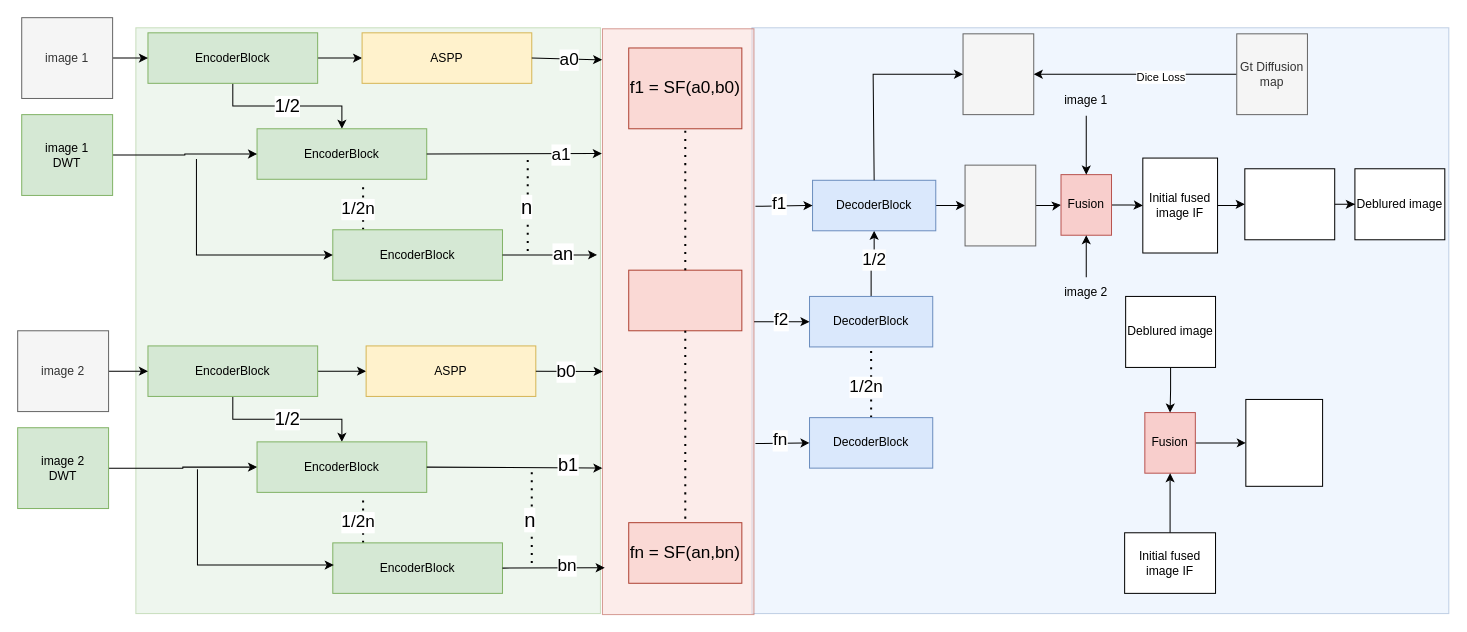
This 1467x632 diagram has some shape labels left out. The shapes that lost their labels are listed below. From the top down, each one's centre as x and y in pixels, then its label:
the point at 998,74: Diffusion map
the point at 1000,205: Focus map
the point at 1289,204: pretrained debluring module
the point at 685,300: f2 = SF(a1,b1)
the point at 1284,442: final fused image
